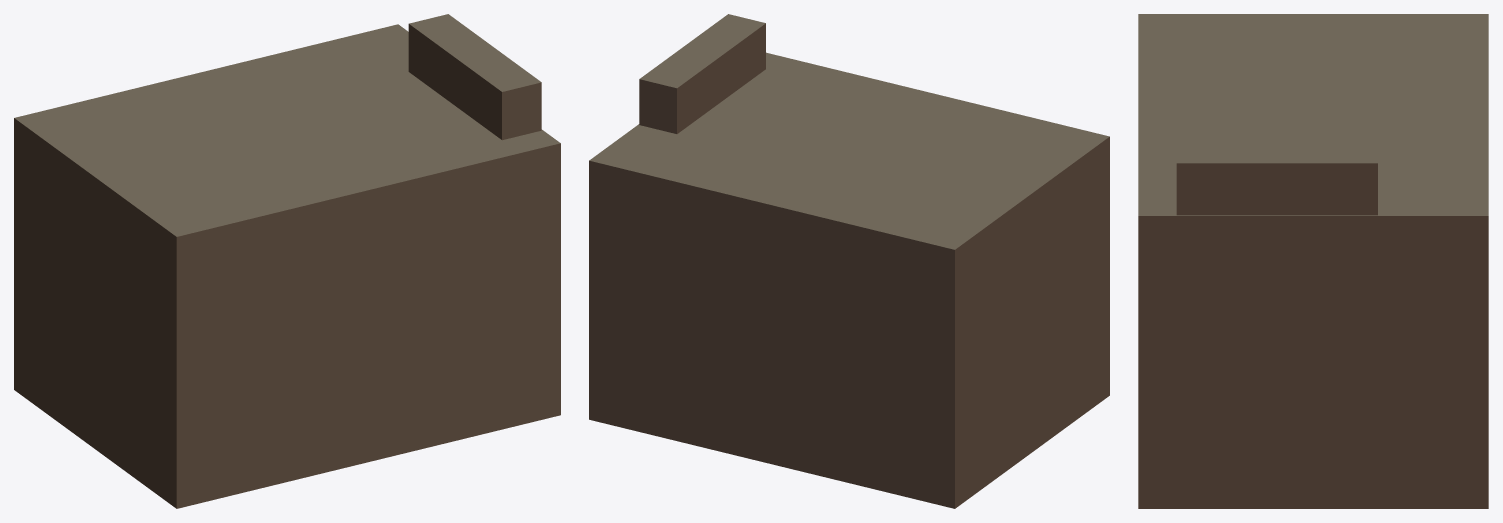
File: rw-river-flats.far-facades-v3.lod2.glb
The picture shows the model from 3 angles, left to right: view 1: azimuth 30°, elevation 25°; view 2: azimuth 150°, elevation 25°; view 3: azimuth 270°, elevation 25°; orthographic projection. The views are drawn at different scales.
Parts seen in each view (by area): view 1: rw-river-flats; view 2: rw-river-flats; view 3: rw-river-flats.
Boxes of the visible parts, x1=… form: rw-river-flats: x1=14, y1=14, x2=560, y2=508; rw-river-flats: x1=589, y1=14, x2=1109, y2=508; rw-river-flats: x1=1138, y1=14, x2=1488, y2=508.
Bounding box in the file's own units: 15 × 11.95 × 11.
